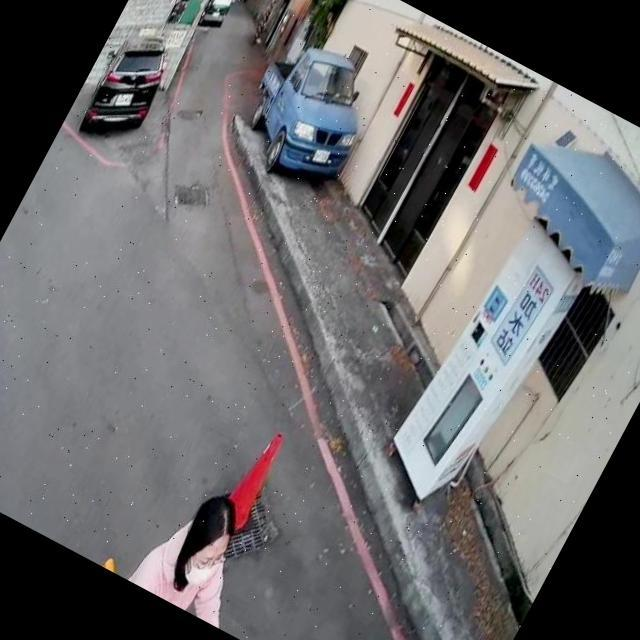person: (124, 465, 292, 636)
